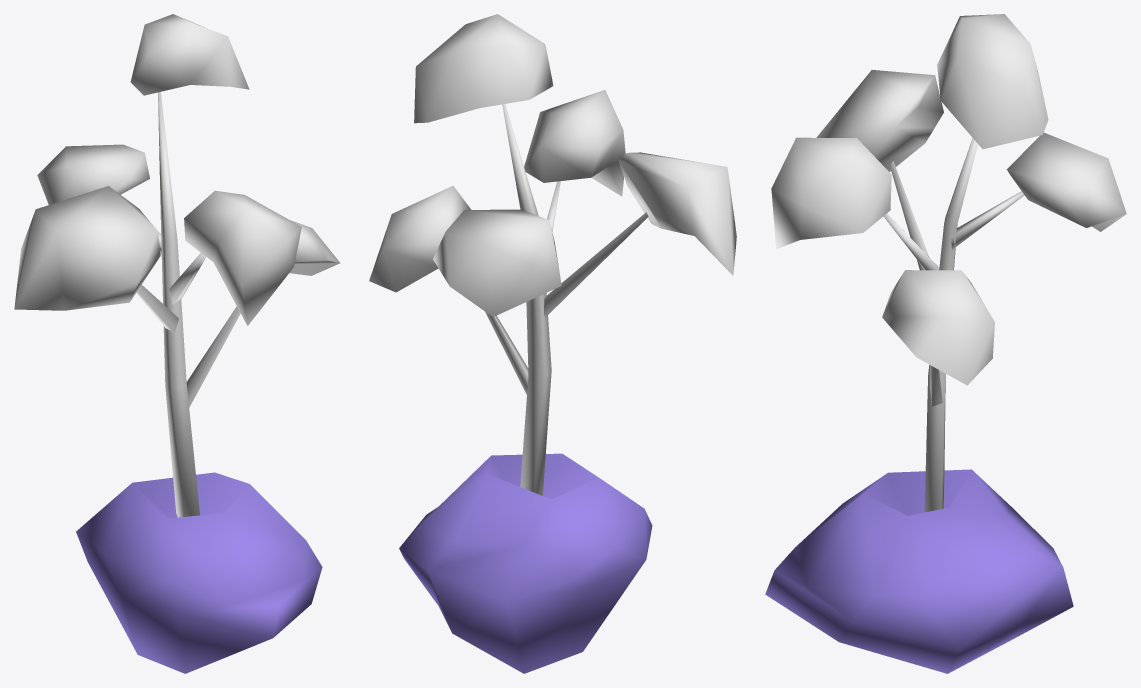
Rendered from oliveTreeSapling.glb.
The picture shows the model from 3 angles, left to right: view 1: azimuth 30°, elevation 25°; view 2: azimuth 150°, elevation 25°; view 3: azimuth 270°, elevation 25°; orthographic projection. The views are drawn at different scales.
Parts seen in each view (by area): view 1: Cube, Icosphere; view 2: Cube, Icosphere; view 3: Cube, Icosphere.
Boxes of the visible parts, x1=… form: Cube: x1=14, y1=14, x2=340, y2=517; Icosphere: x1=76, y1=472, x2=322, y2=673; Cube: x1=369, y1=14, x2=736, y2=495; Icosphere: x1=399, y1=453, x2=652, y2=673; Cube: x1=771, y1=14, x2=1126, y2=512; Icosphere: x1=765, y1=469, x2=1073, y2=673.
Bounding box in the file's own units: 1.12 × 1.99 × 0.9993.
